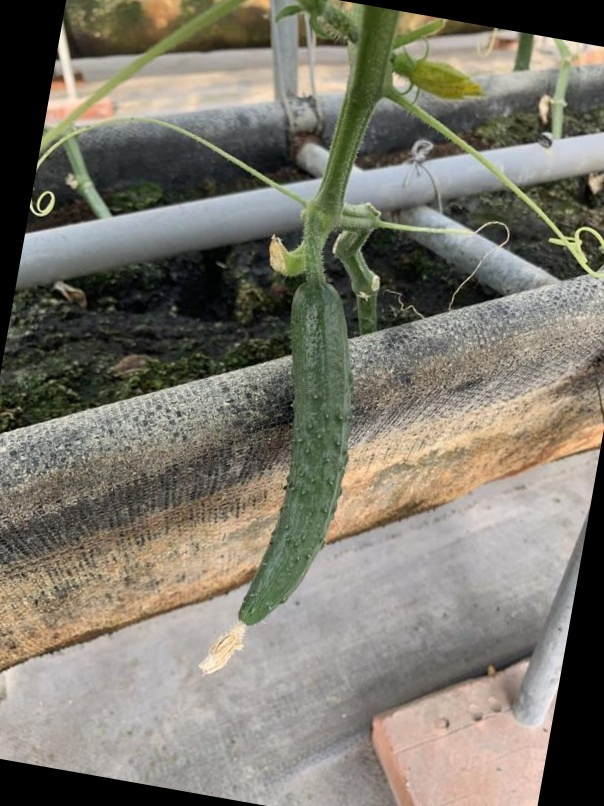growth: (230, 277, 369, 652)
mature: (227, 286, 368, 648)
